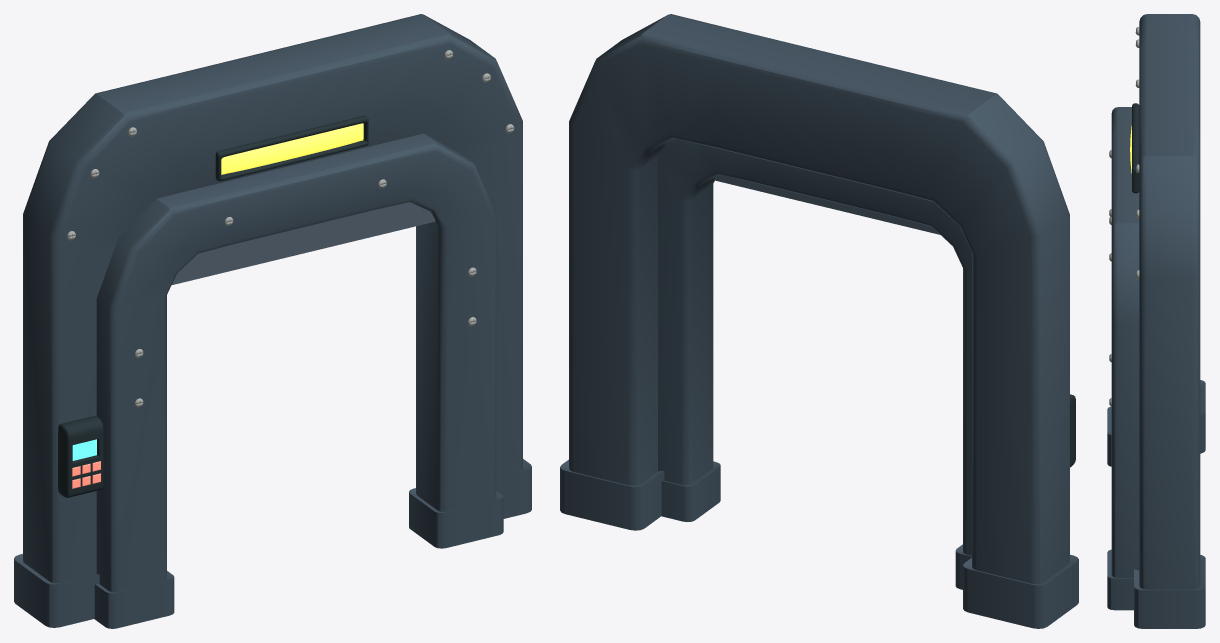
Rendered from KAPI.fbx.
3 views of the same model, side by side, from view 1: azimuth 30°, elevation 25°; view 2: azimuth 150°, elevation 25°; view 3: azimuth 270°, elevation 25° (orthographic). The views are drawn at different scales.
Parts seen in each view (by area): view 1: Cube.002, Cube.001, Plane, Plane.001, Cube; view 2: Cube.002, Cube.001, Plane; view 3: Cube.002, Cube.001, Plane.001.
Boxes of the visible parts, <box> form: Cube.002: <box>14,14,531,627</box>; Cube.001: <box>94,133,503,628</box>; Plane: <box>172,202,435,284</box>; Plane.001: <box>215,115,368,181</box>; Cube: <box>58,416,103,497</box>; Cube.002: <box>560,14,1078,628</box>; Cube.001: <box>658,139,971,589</box>; Plane: <box>714,175,939,234</box>; Cube.002: <box>1134,14,1205,628</box>; Cube.001: <box>1107,107,1139,610</box>; Plane.001: <box>1130,103,1139,193</box>.
Bounding box in the file's own units: 204 × 198 × 40.19.
